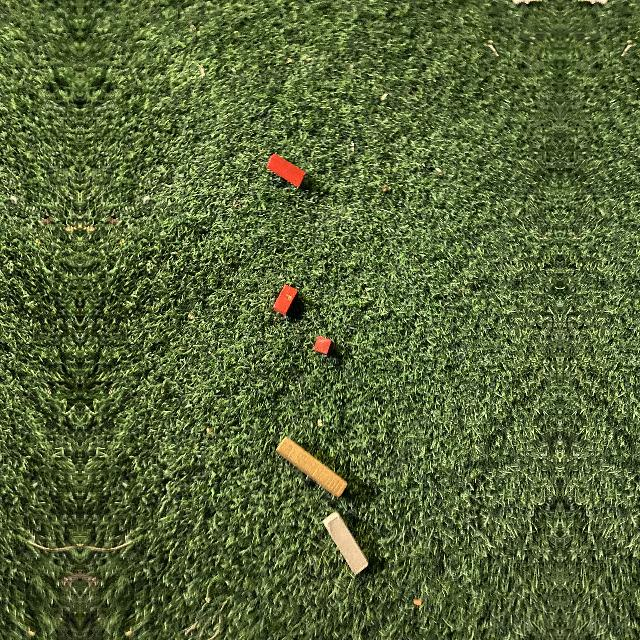block: (323, 512, 368, 576)
jenga: (275, 437, 347, 498)
red block: (266, 153, 307, 187), (273, 285, 298, 316)
red cube: (314, 334, 330, 354)
